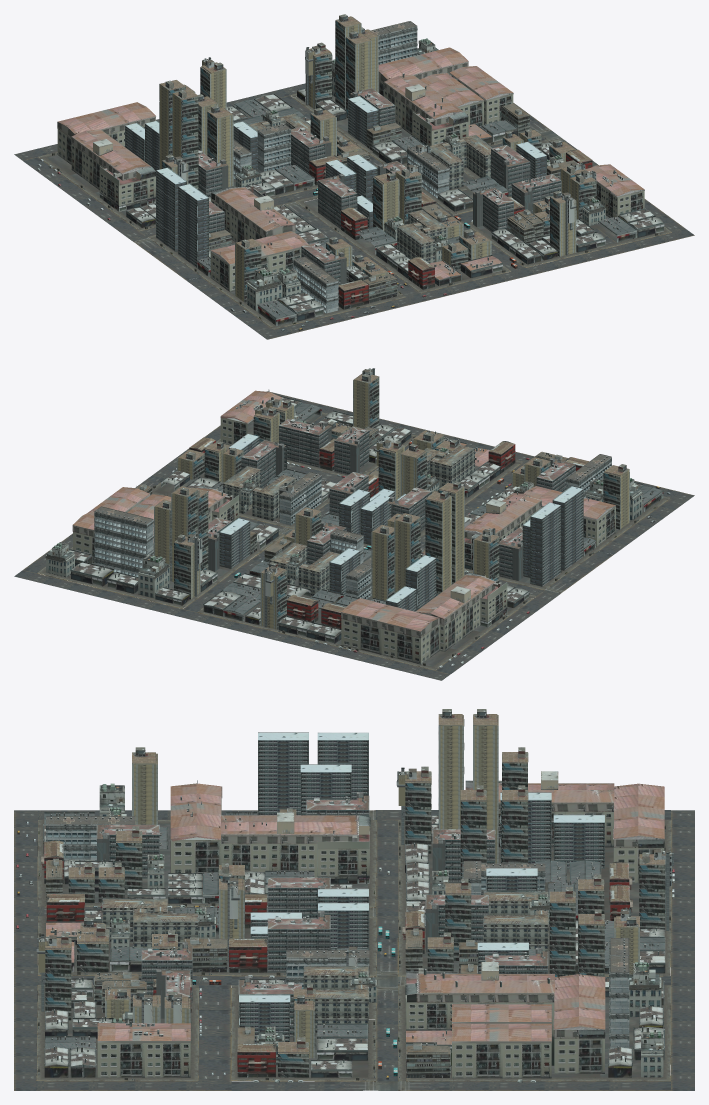
File: drone City.glb
3 renders of one model, top to bottom at view 1: azimuth 30°, elevation 25°; view 2: azimuth 150°, elevation 25°; view 3: azimuth 270°, elevation 25°, orthographic. The views are drawn at different scales.
Visible parts, largest first — view 1: ortoedificio-frontal-frontal.004, ortoedificio-frontal-frontal, ortoedificio-frontal-frontal.001, ciudadortogonal-CALLE2mod.010, ortoedificiotechoceleste -COMPLETO.006, orto-edificio22-completo.035, ortoedificio-frontal-frontal.002, ortoedificiotechoceleste -COMPLETO.008, ortoedificio-frontal-frontal.003, ciudadortogonal-CALLE2mod.017, hospitalcompleto.005, hospitalcompleto.006 (+59 smaller); view 2: ortoedificio-frontal-frontal.004, ortoedificio-frontal-frontal.001, ciudadortogonal-CALLE2mod.014, hospitalcompleto.006, ortoedificiotechoceleste -COMPLETO.008, orto-edificio22-completo.033, ortoedificiotechoceleste -COMPLETO.006, ortoedificiocontechorojo-.009, ortoedificio-frontal-frontal, ciudadortogonal-CALLE2mod.017, orto-edificio22-completo.012, orto-edificio22-completo.031 (+58 smaller); view 3: ortoedificio-frontal-frontal.001, ortoedificio-frontal-frontal, ortoedificio-frontal-frontal.004, ciudadortogonal-CALLE2mod.014, ciudadortogonal-CALLE2mod.010, ortoedificio-frontal-frontal.003, ortoedificio-frontal-frontal.002, ortoedificiotechoceleste -COMPLETO.006, ciudadortogonal-CALLE2mod.009, ciudadortogonal-CALLE2mod.007, ciudadortogonal-CALLE2mod.003, orto-edificio22-completo.035 (+94 smaller).
Boxes of the visible parts, x1,y1,x2,y2 form: ortoedificio-frontal-frontal.004: (57,102,156,211); ortoedificio-frontal-frontal: (378,47,468,145); ortoedificio-frontal-frontal.001: (210,184,308,291); ciudadortogonal-CALLE2mod.010: (259,229,694,339); ortoedificiotechoceleste -COMPLETO.006: (178,184,208,267); orto-edificio22-completo.035: (172,93,198,189); ortoedificio-frontal-frontal.002: (586,164,644,217); ortoedificiotechoceleste -COMPLETO.008: (156,167,186,251); ortoedificio-frontal-frontal.003: (449,66,513,124); ciudadortogonal-CALLE2mod.017: (23,157,147,241); hospitalcompleto.005: (293,256,339,313); hospitalcompleto.006: (370,21,417,64); ortoedificio-frontal-frontal.004: (341,572,507,664); ortoedificio-frontal-frontal.001: (464,486,615,569); ciudadortogonal-CALLE2mod.014: (14,570,449,680); hospitalcompleto.006: (94,506,154,576); ortoedificiotechoceleste -COMPLETO.008: (530,502,561,586); orto-edificio22-completo.033: (425,497,451,595); ortoedificiotechoceleste -COMPLETO.006: (552,486,583,570); ortoedificiocontechorojo-.009: (278,419,331,467); ortoedificio-frontal-frontal: (72,485,238,562); ciudadortogonal-CALLE2mod.017: (435,590,559,674); orto-edificio22-completo.012: (371,525,394,600); orto-edificio22-completo.031: (394,513,420,593); ortoedificio-frontal-frontal.001: (170,780,370,883); ortoedificio-frontal-frontal: (405,962,605,1073); ortoedificio-frontal-frontal.004: (465,771,664,883); ciudadortogonal-CALLE2mod.014: (671,810,694,1090); ciudadortogonal-CALLE2mod.010: (14,810,37,1090); ortoedificio-frontal-frontal.003: (452,1023,551,1078); ortoedificio-frontal-frontal.002: (97,1023,190,1077); ortoedificiotechoceleste -COMPLETO.006: (258,732,308,815); ciudadortogonal-CALLE2mod.009: (197,985,231,1084); ciudadortogonal-CALLE2mod.007: (231,1081,543,1090); ciudadortogonal-CALLE2mod.003: (376,820,398,938); orto-edificio22-completo.035: (438,715,464,829).
Bounding box in the file's own units: 52.68 × 14.23 × 54.01.
51 materials, 50 textured.
